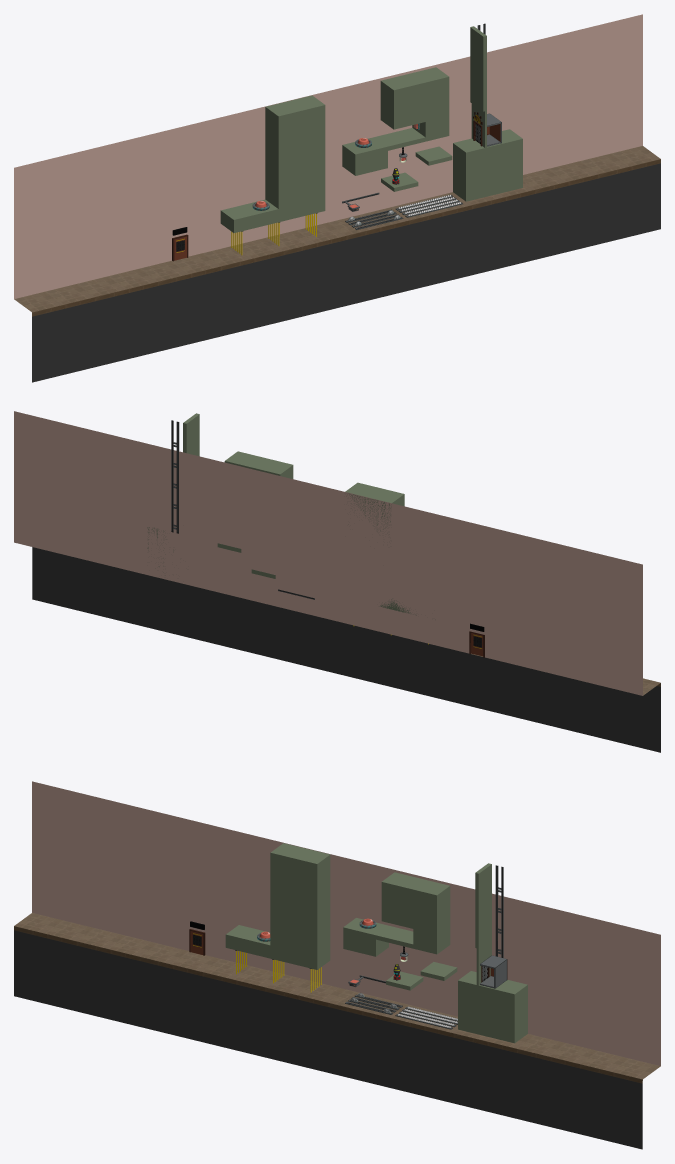
File: level02.fbx
3 renders of one model, top to bottom at view 1: azimuth 30°, elevation 25°; view 2: azimuth 150°, elevation 25°; view 3: azimuth 330°, elevation 25°, orthographic.
Parts seen in each view (by area): view 1: polySurface706, polySurface709, polySurface710, polySurface713, polySurface712, platform2, platform1; view 2: polySurface706, polySurface709, polySurface713, polySurface712, platform1; view 3: polySurface706, polySurface709, polySurface710, polySurface713, polySurface712, platform2, platform1, polySurface590.
Part boxes in pixels (<box>): polySurface706: <box>14,14,642,298</box>; polySurface709: <box>32,159,660,382</box>; polySurface710: <box>14,146,660,312</box>; polySurface713: <box>220,95,325,232</box>; polySurface712: <box>342,67,449,175</box>; platform2: <box>453,129,522,201</box>; platform1: <box>470,26,486,147</box>; polySurface706: <box>14,411,642,695</box>; polySurface709: <box>32,547,660,752</box>; polySurface713: <box>345,482,435,619</box>; polySurface712: <box>224,451,293,478</box>; platform1: <box>183,413,199,456</box>; polySurface706: <box>32,781,660,1065</box>; polySurface709: <box>14,926,642,1149</box>; polySurface710: <box>14,913,660,1079</box>; polySurface713: <box>225,843,330,969</box>; polySurface712: <box>343,872,450,956</box>; platform2: <box>458,971,527,1043</box>; platform1: <box>475,863,491,985</box>; polySurface590: <box>480,955,507,988</box>.
Size of the model in its own units: 9166 by 3217 by 466.
